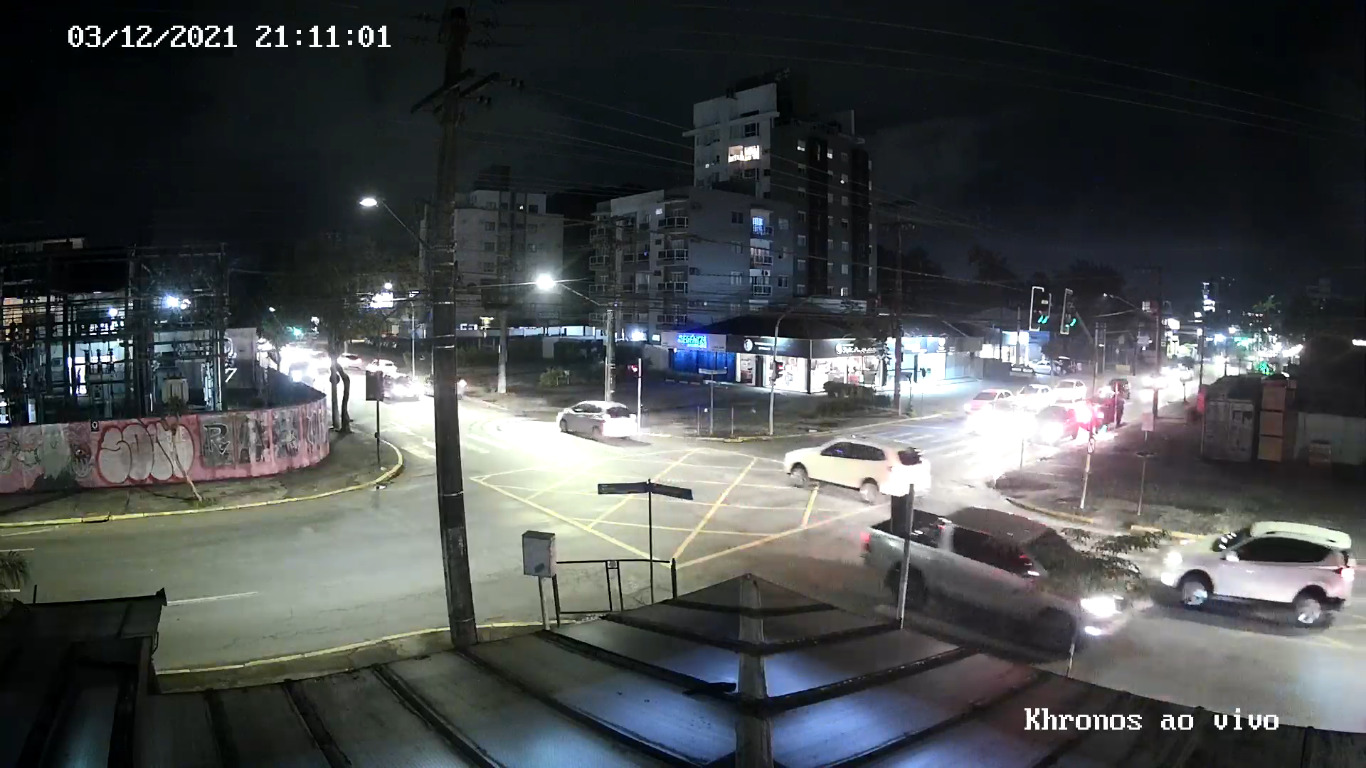car: (862, 502, 1146, 656), (1160, 521, 1357, 626), (784, 434, 931, 502), (557, 397, 637, 443)
